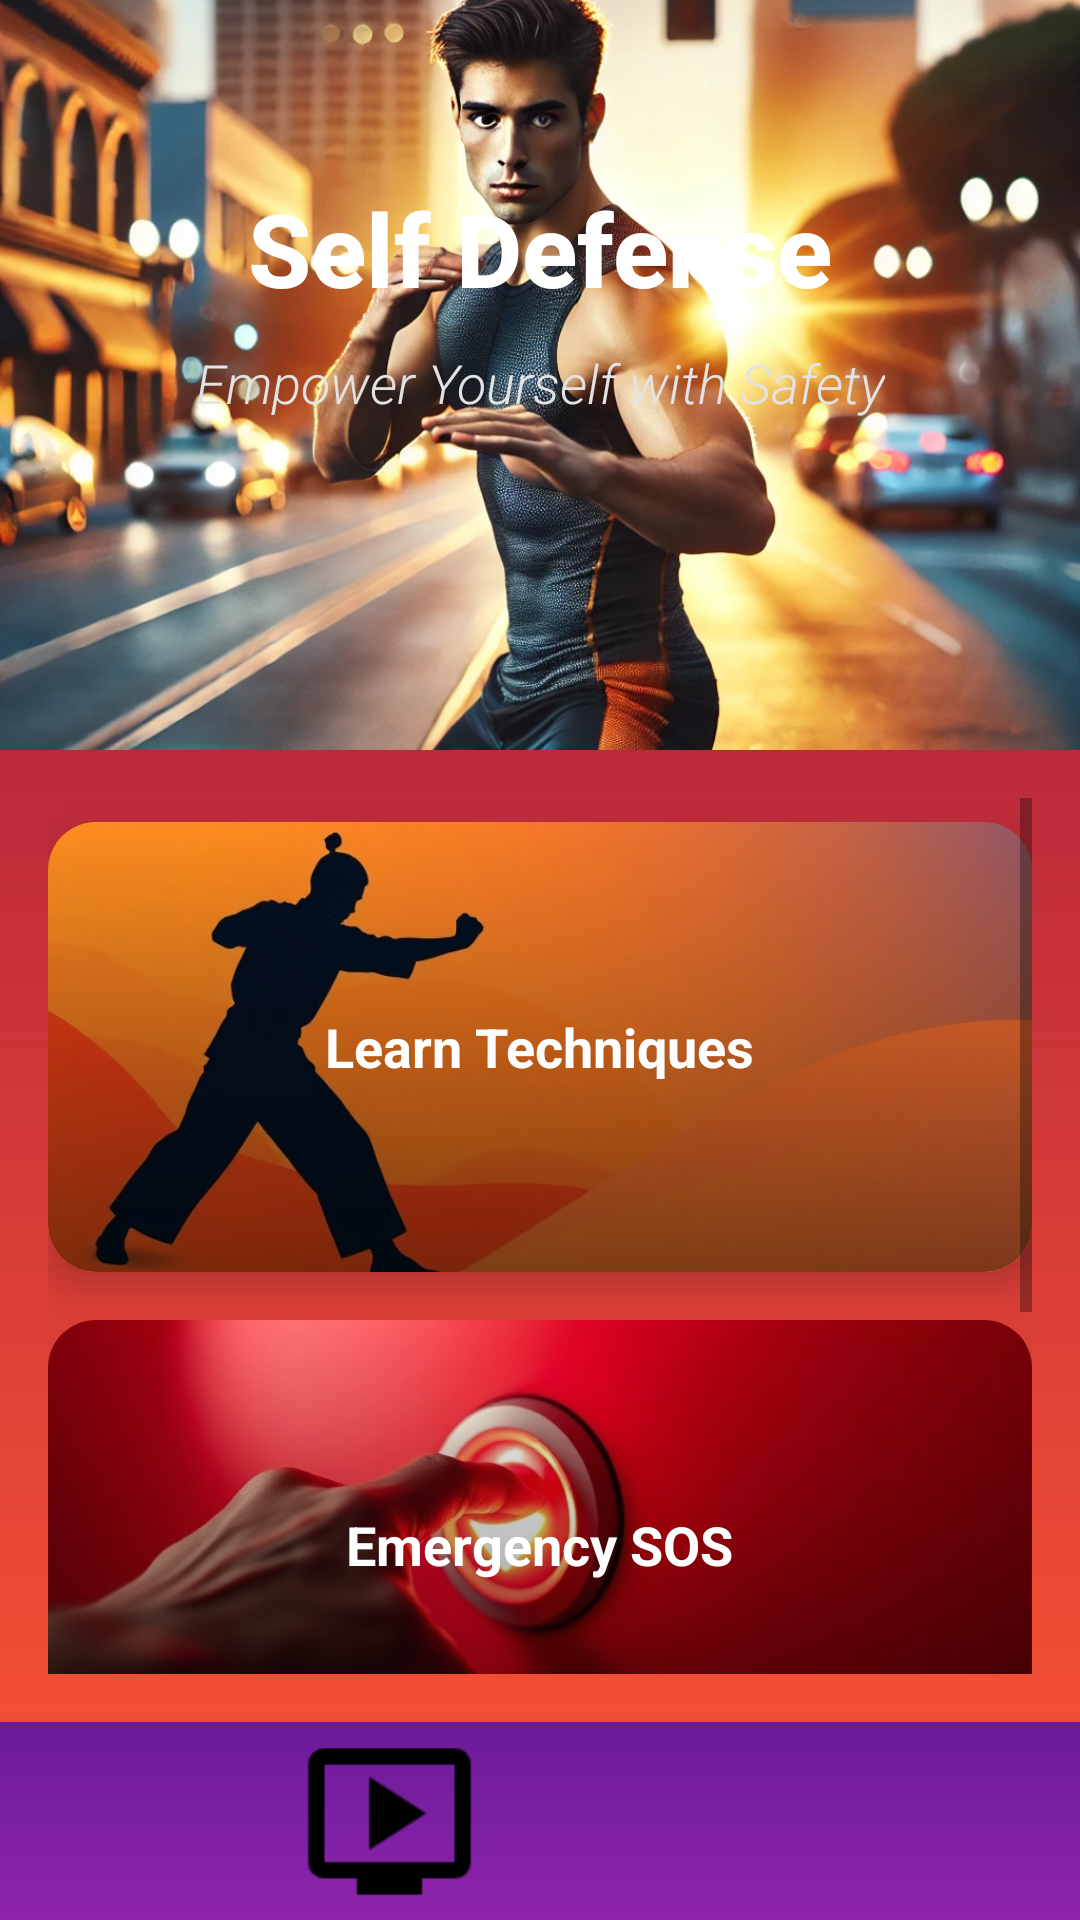

Icon click points for this 1080px×1920px phone screenshot, format (x,y):
Live: (389,1821)
